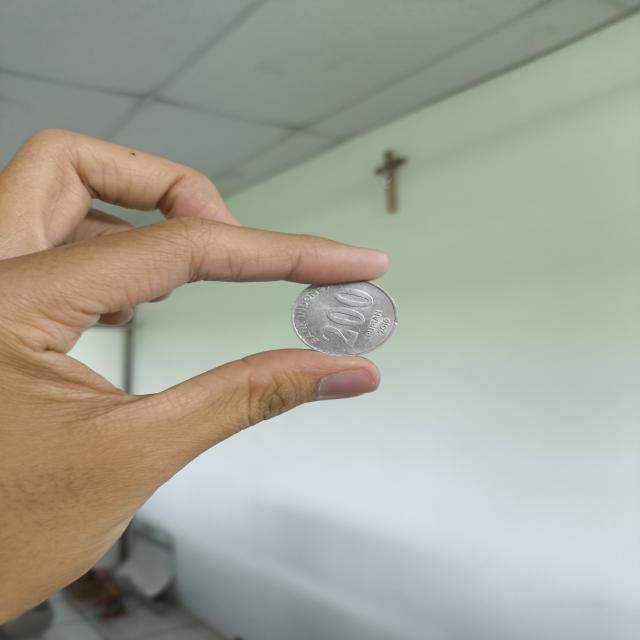1000-sawit: (291, 281, 398, 355)
